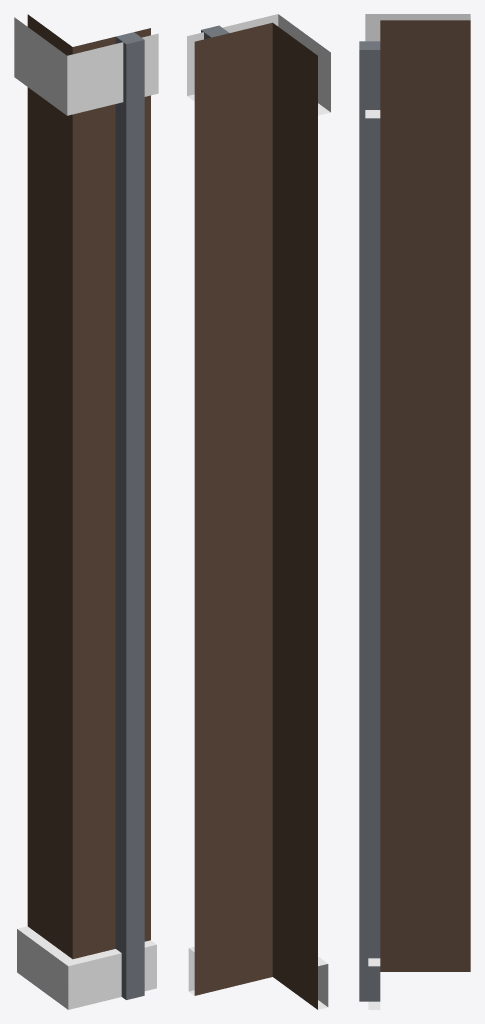
File: mid-c1.fbx
3 renders of one model, left to right at view 1: azimuth 30°, elevation 25°; view 2: azimuth 210°, elevation 25°; view 3: azimuth 270°, elevation 25°, orthographic.
Visible parts, largest first — view 1: a2000s3/800/mid-c1; view 2: a2000s3/800/mid-c1; view 3: a2000s3/800/mid-c1.
Part boxes in pixels (x1,y1,x2,y2): a2000s3/800/mid-c1: [14, 14, 158, 1009]; a2000s3/800/mid-c1: [187, 14, 330, 1009]; a2000s3/800/mid-c1: [359, 14, 470, 1009].
Size of the model in its own units: 0.35 by 3.5 by 0.37.
